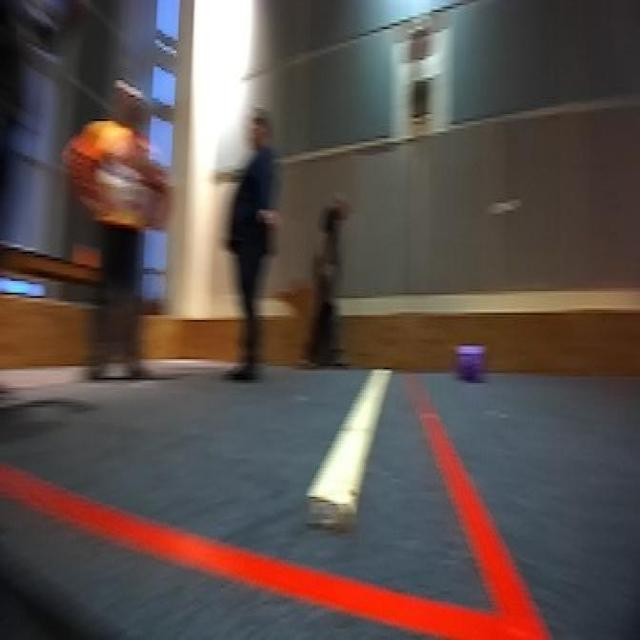frc_cube: (457, 342, 484, 385)
